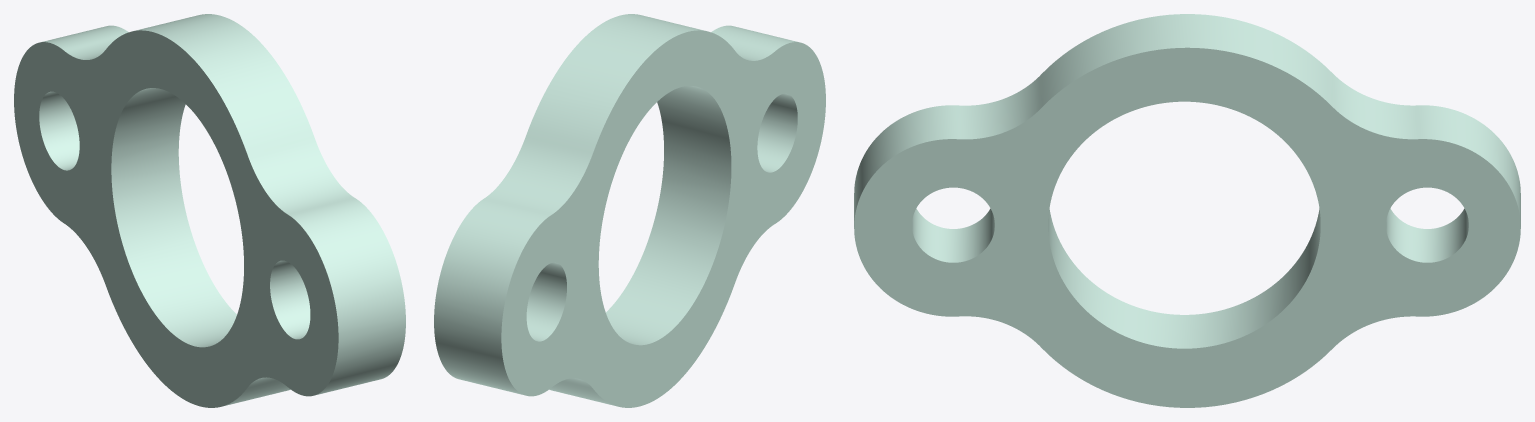
3 renders of one model, left to right at view 1: azimuth 30°, elevation 25°; view 2: azimuth 150°, elevation 25°; view 3: azimuth 270°, elevation 25°, orthographic. The views are drawn at different scales.
Visible parts, largest first — view 1: Renderer Node; view 2: Renderer Node; view 3: Renderer Node.
Part boxes in pixels (box(x1,y1,x2,y2)): Renderer Node: box(14, 14, 405, 407); Renderer Node: box(434, 14, 825, 407); Renderer Node: box(854, 14, 1520, 407).
Size of the model in its own units: 0.1797 by 0.8937 by 1.5.
